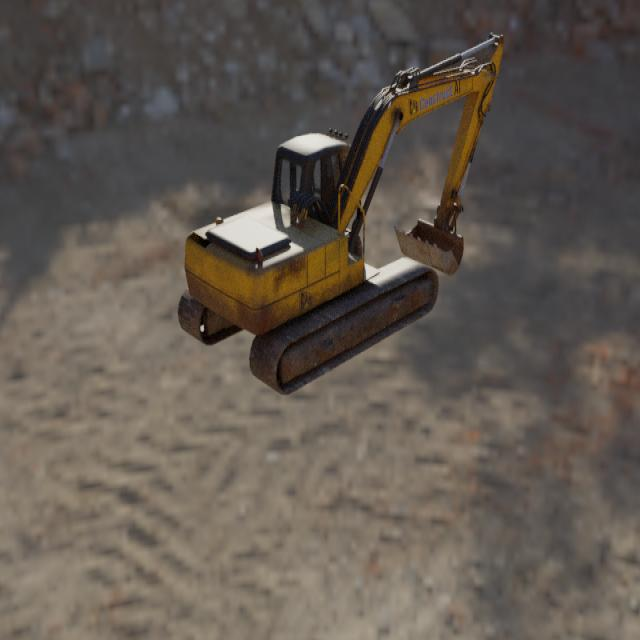excavator: (177, 32, 504, 395)
